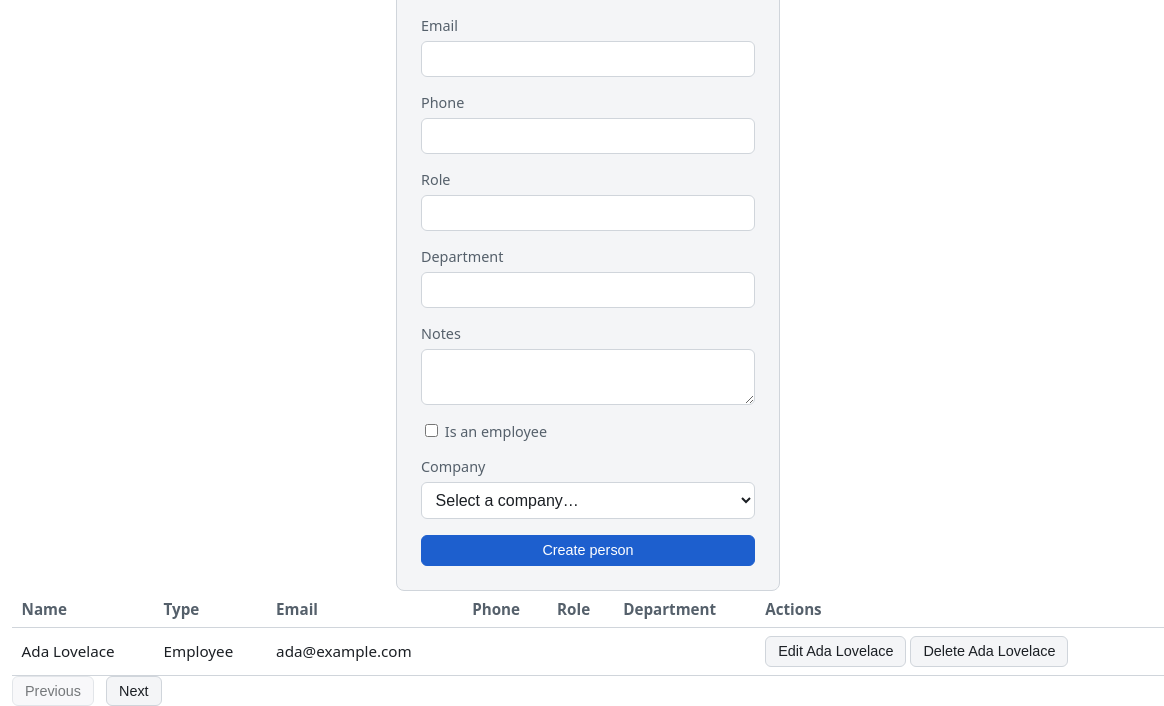
Test: PeoplePage › paginates using the total count
(page scrolled)
Expected: the text "Ada Lovelace" is shown, [12,627,154,675]
Expected: the button "Previous" is disabled, [12,676,94,705]
Click the button "Next". click: coordinates (134, 691)
box: [106,676,162,705]
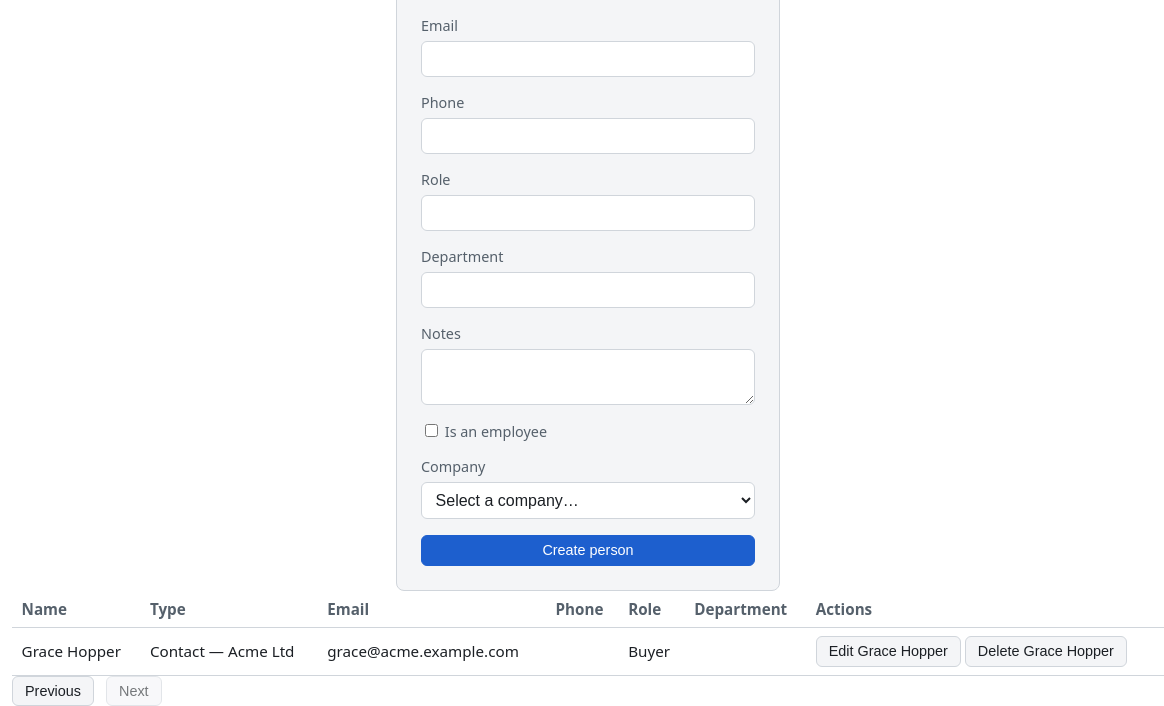
Expected: the text "Grace Hopper" is shown, [12,627,140,675]
Expected: the button "Next" is disabled, [106,676,162,705]
